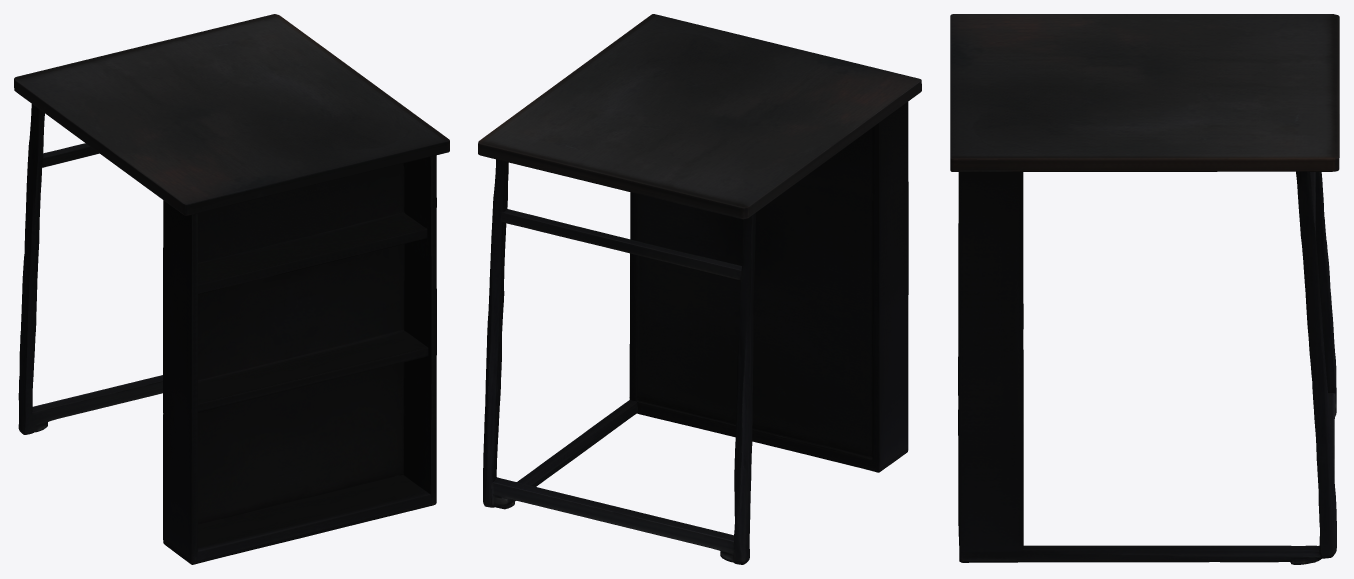
Rendered from Stella 2.glb.
3 renders of one model, left to right at view 1: azimuth 30°, elevation 25°; view 2: azimuth 150°, elevation 25°; view 3: azimuth 270°, elevation 25°, orthographic. The views are drawn at different scales.
Visible parts, largest first — view 1: world; view 2: world; view 3: world.
Part boxes in pixels (x1=…): world: x1=14, y1=14, x2=449, y2=564; world: x1=478, y1=14, x2=921, y2=564; world: x1=950, y1=14, x2=1339, y2=564.
Size of the model in its own units: 0.7586 by 1 by 0.8593.
1 material, 1 textured.
